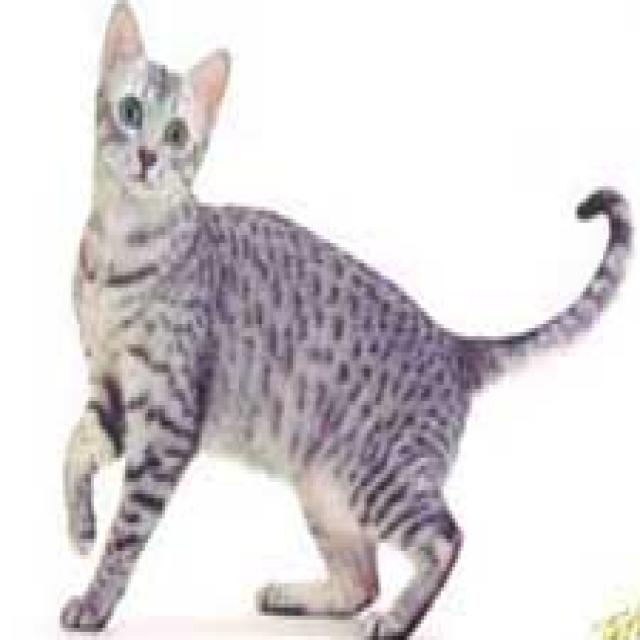Egyptian Mau: (54, 0, 637, 640)
